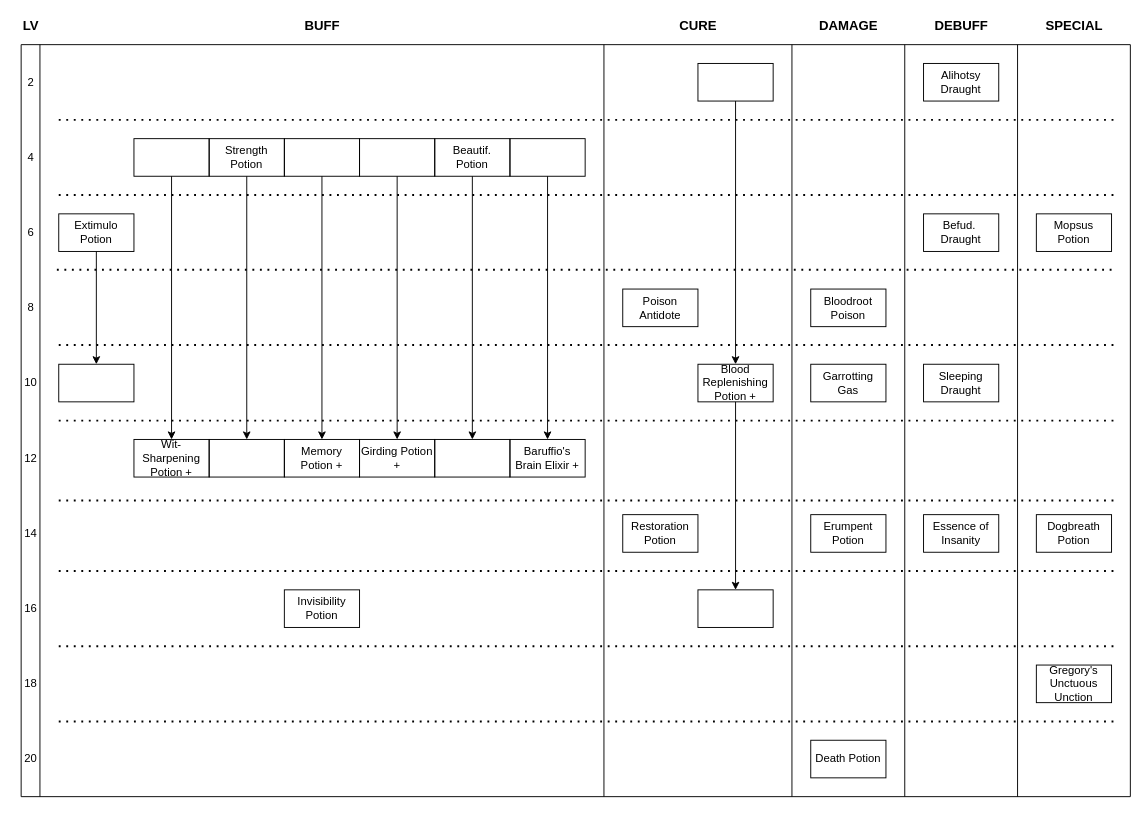
Image size: 1148x814. Some labels were removed from this diagram. The shapes that lost their labels are listed below. From the top down, each one's centre as x and y in pixels, then its label:
At [735,82]: "Blood Replenishing Potion".
At [171,157]: "Wit-Sharpening Potion".
At [321,157]: "Memory Potion".
At [397,157]: "Girding Potion".
At [547,157]: "Baruffio's Brain Elixir".
At [96,382]: "Extimulo Potion +".
At [246,458]: "Strength Potion +".
At [472,458]: "Beautif. Potion +".
At [735,608]: "Blood Replenishing Potion ++".
